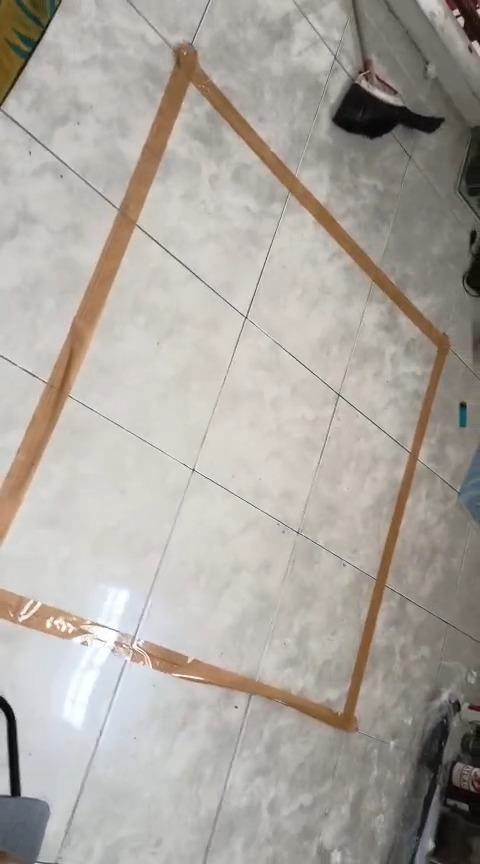floor marking: (0, 44, 448, 731)
